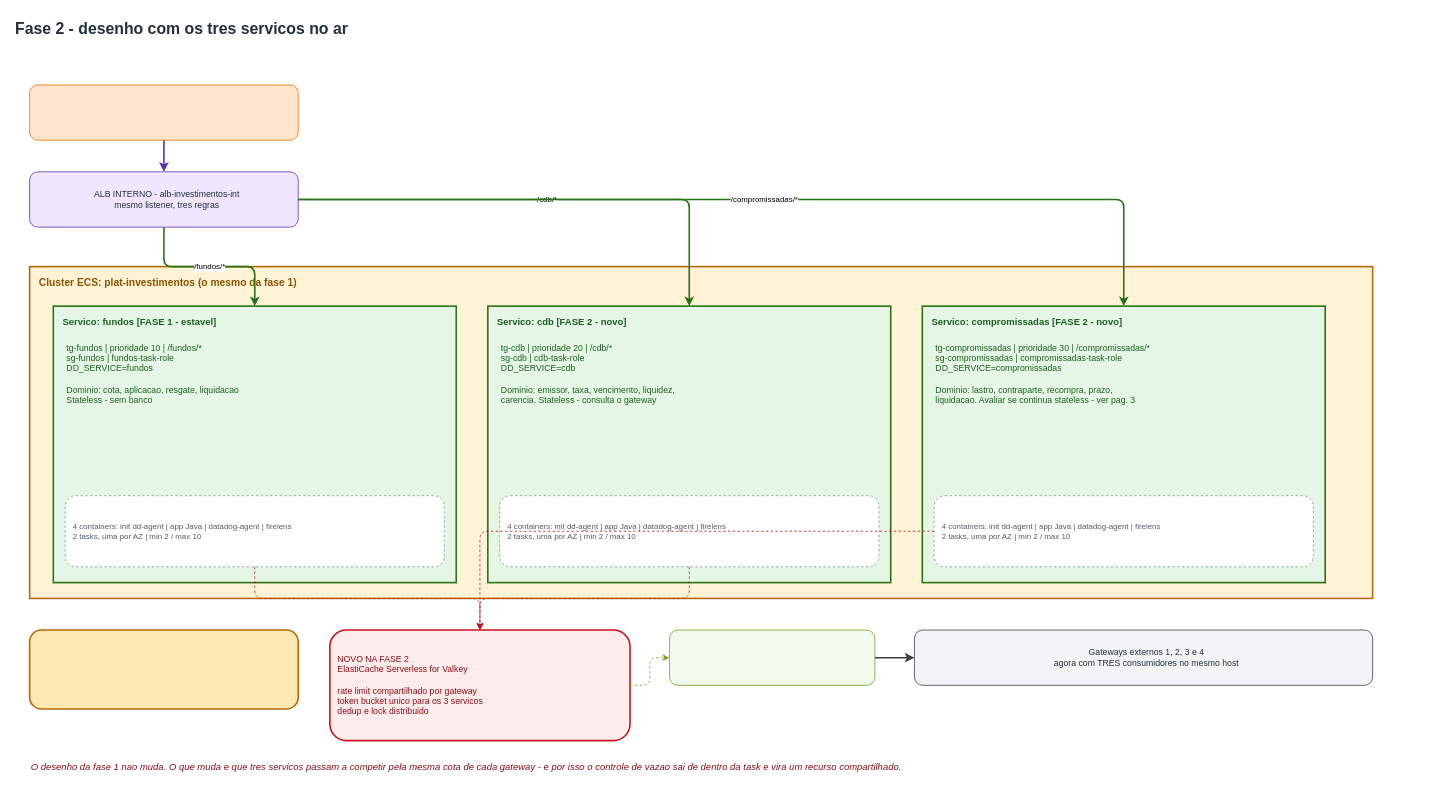
The diagram is 1449 pixels wide and 804 high, and some of its shapes have lost their labels. The centre of each missing label's shape, as x and y in pixels:
"ARTIFACTORY provider-clients:1.4.2 MESMA versao nos tres servicos" goes at point (163, 669).
"BFF - ECS Fargate rotas /v1/fundos, /v1/cdb, /v1/compromissadas" goes at point (163, 112).
"NAT + EIP fixo (mesma allowlist)" goes at point (772, 657).
